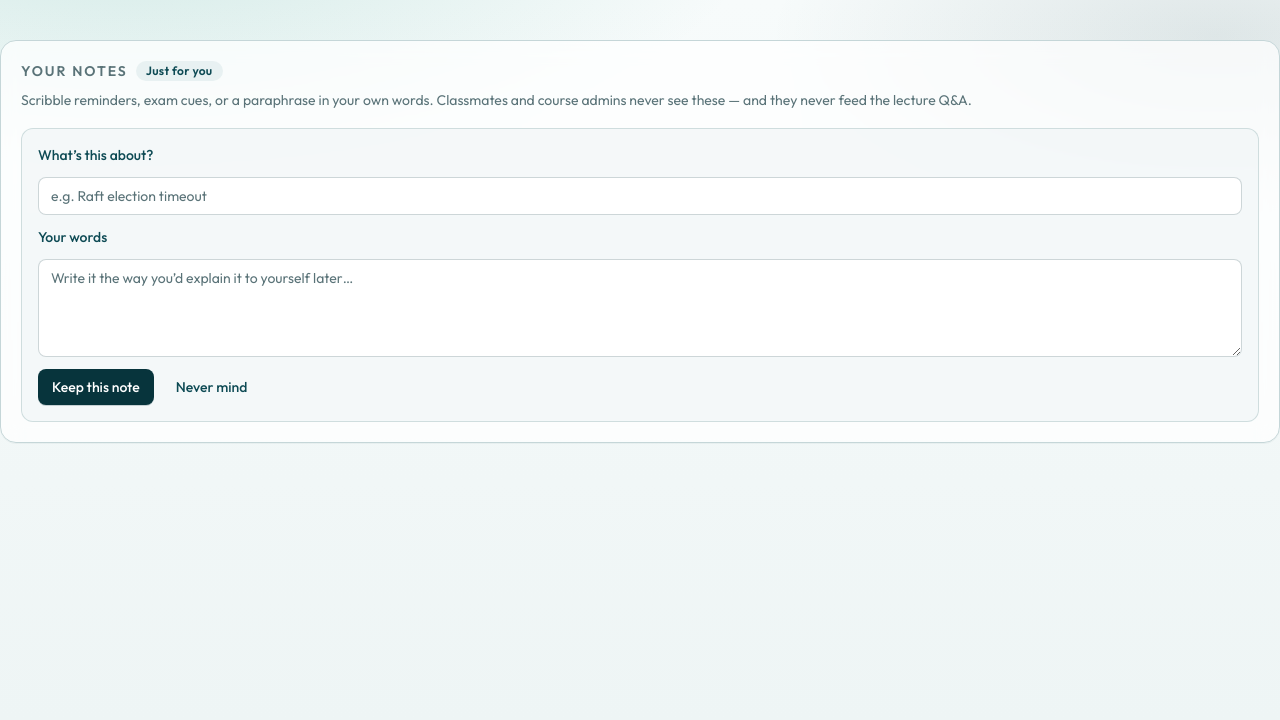
Test: CourseNotesPanel › creates, updates, and deletes a private course note
Earlier steps of the test are not shown.
Type "Raft election timeout" into the field labelled "What’s this about?" at (640, 196), box top-left (38, 177), bottom-right (1242, 215)
Type "Randomized 150–300 ms avoids split votes." into the text box labelled "Your words" at (640, 308), box top-left (38, 259), bottom-right (1242, 357)
Click the button "Keep this note" at (96, 387), box top-left (38, 369), bottom-right (154, 405)
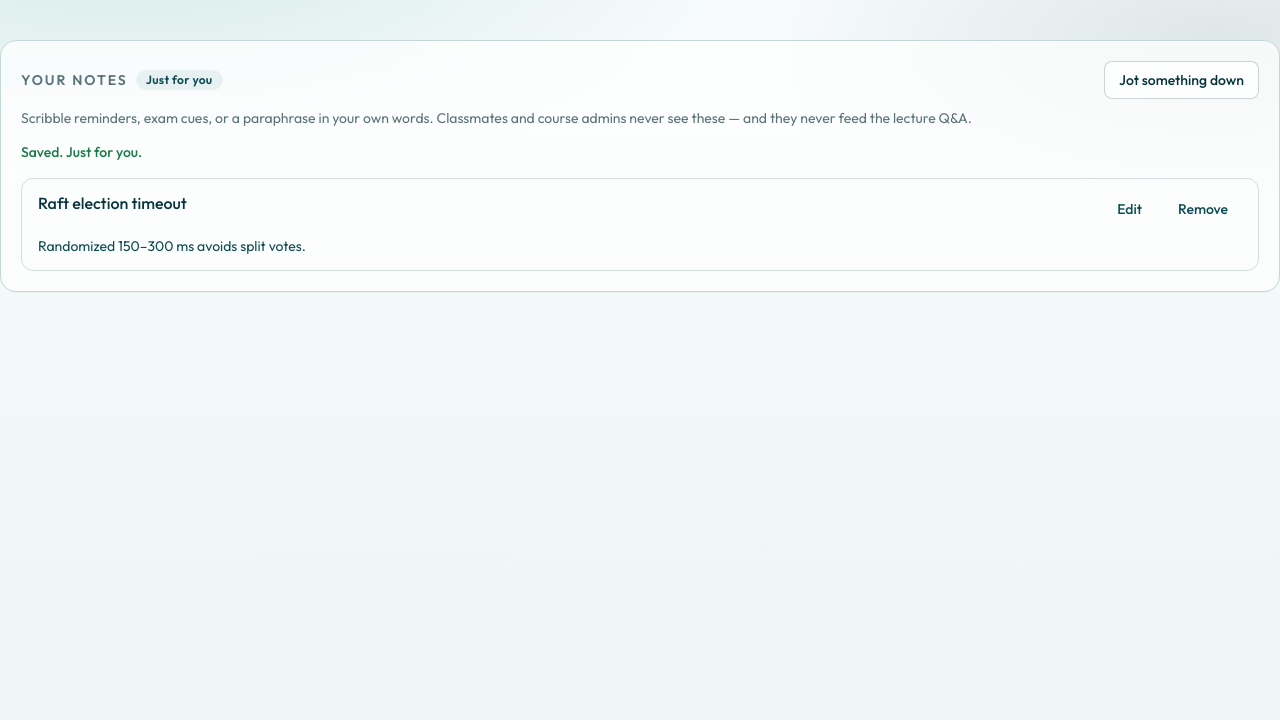
Now the text "Saved. Just for you." is shown, box top-left (21, 143), bottom-right (142, 161)
Now the text "Raft election timeout" is shown, box top-left (38, 191), bottom-right (187, 215)
Now the text "Randomized 150–300 ms avoids split votes." is shown, box top-left (38, 237), bottom-right (306, 255)
Click the button "Edit" at (1130, 209), box top-left (1103, 191), bottom-right (1156, 227)
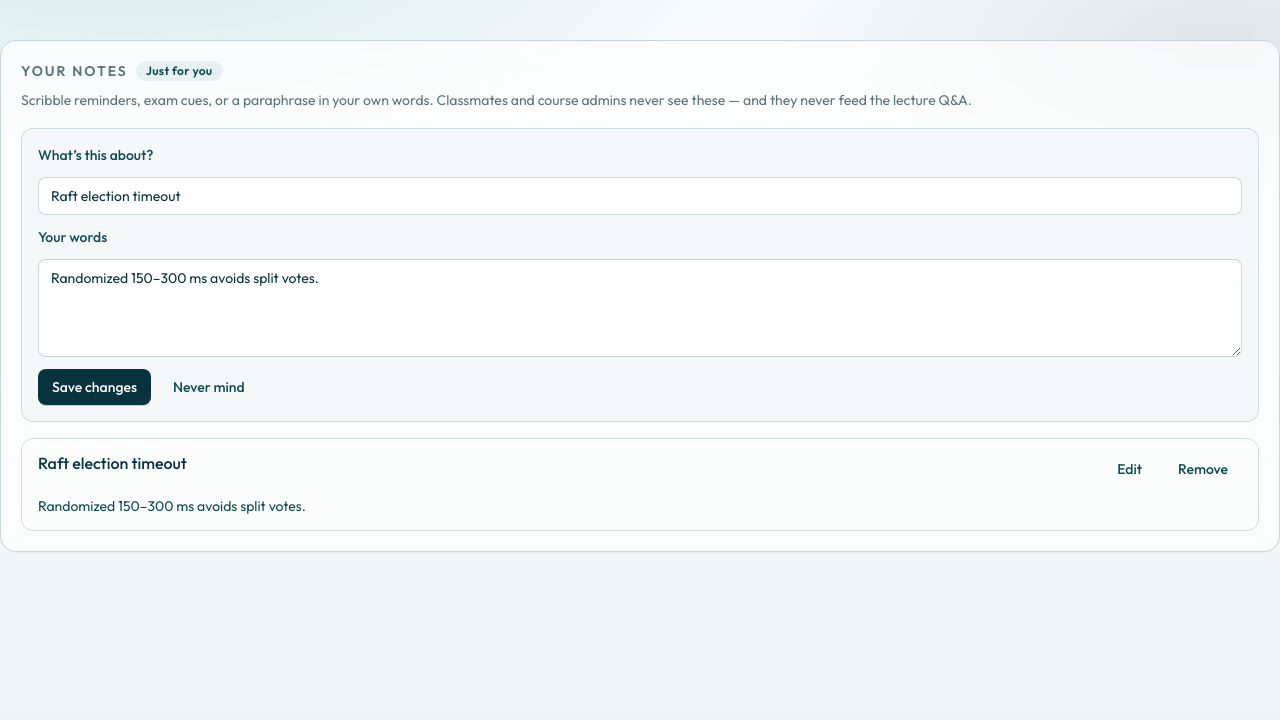
Replace the text in the field labelled "What’s this about?" with "Raft election timer" at (640, 196), box top-left (38, 177), bottom-right (1242, 215)
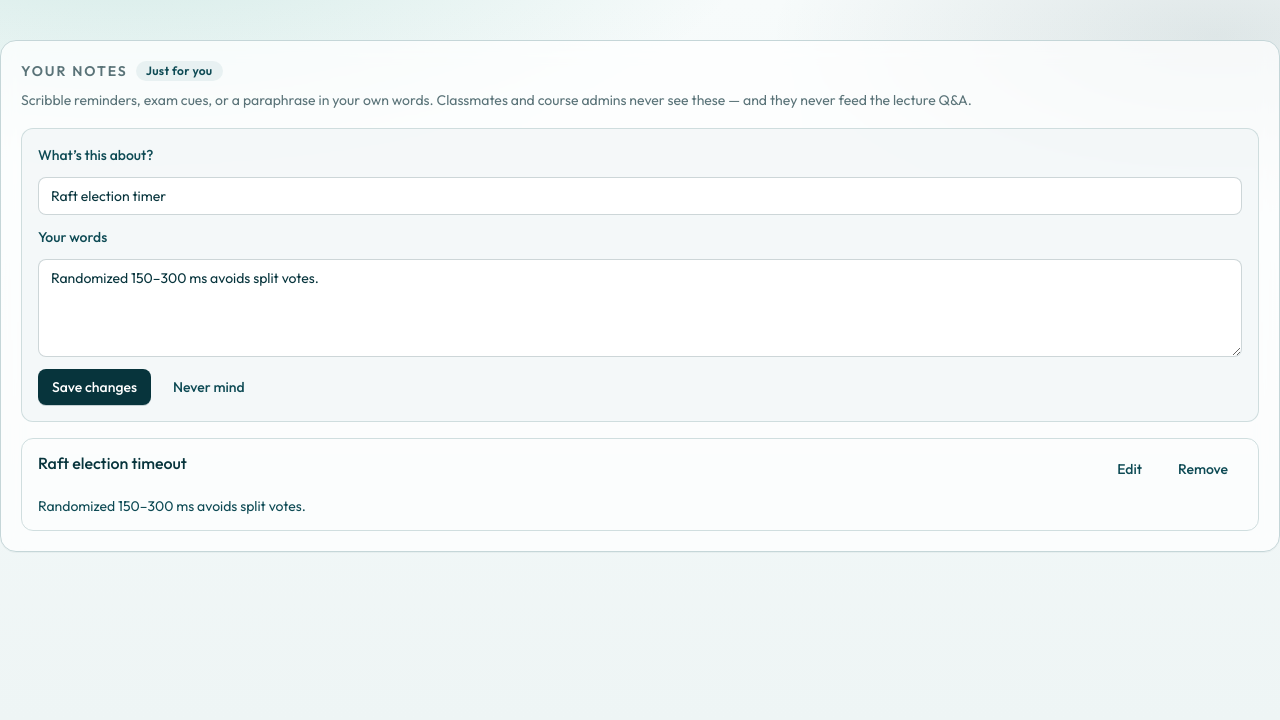
Click the button "Save changes" at (94, 387), box top-left (38, 369), bottom-right (151, 405)
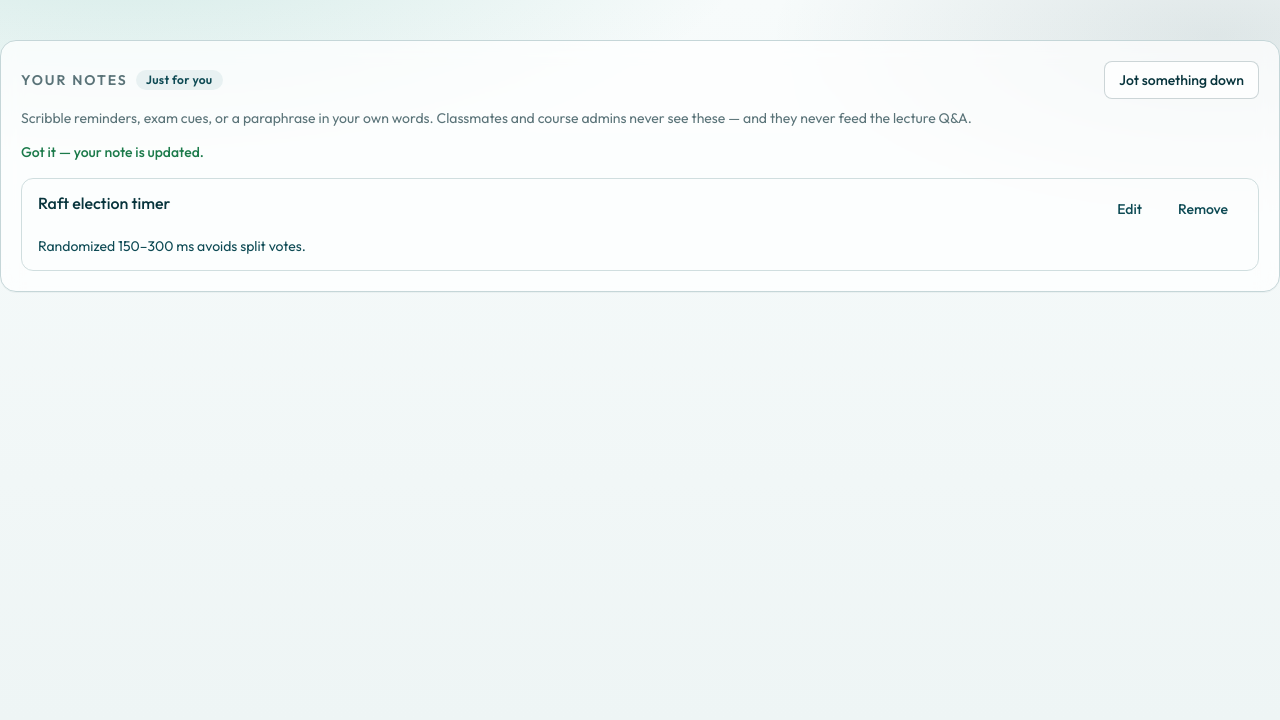
Now the text "Raft election timer" is shown, box top-left (38, 191), bottom-right (170, 215)
Click the button "Remove" at (1203, 209), box top-left (1164, 191), bottom-right (1242, 227)
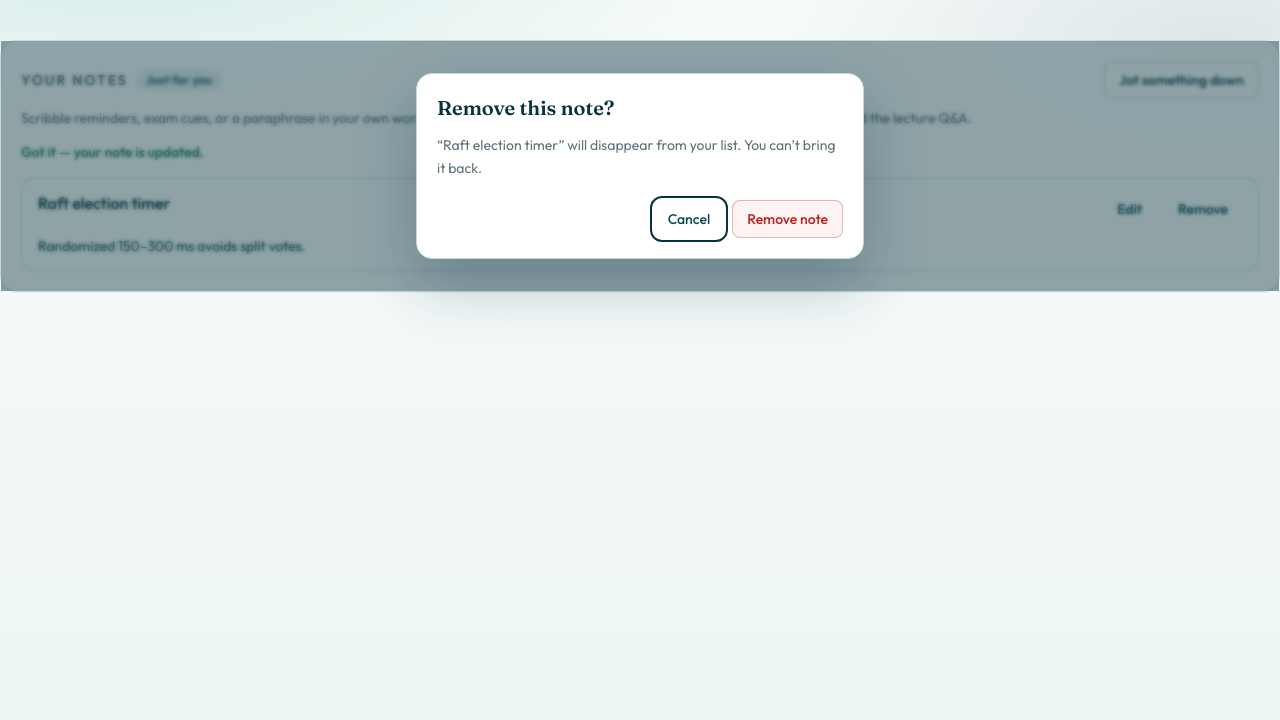
Click the button "Remove note" at (788, 218), box top-left (732, 200), bottom-right (843, 238)
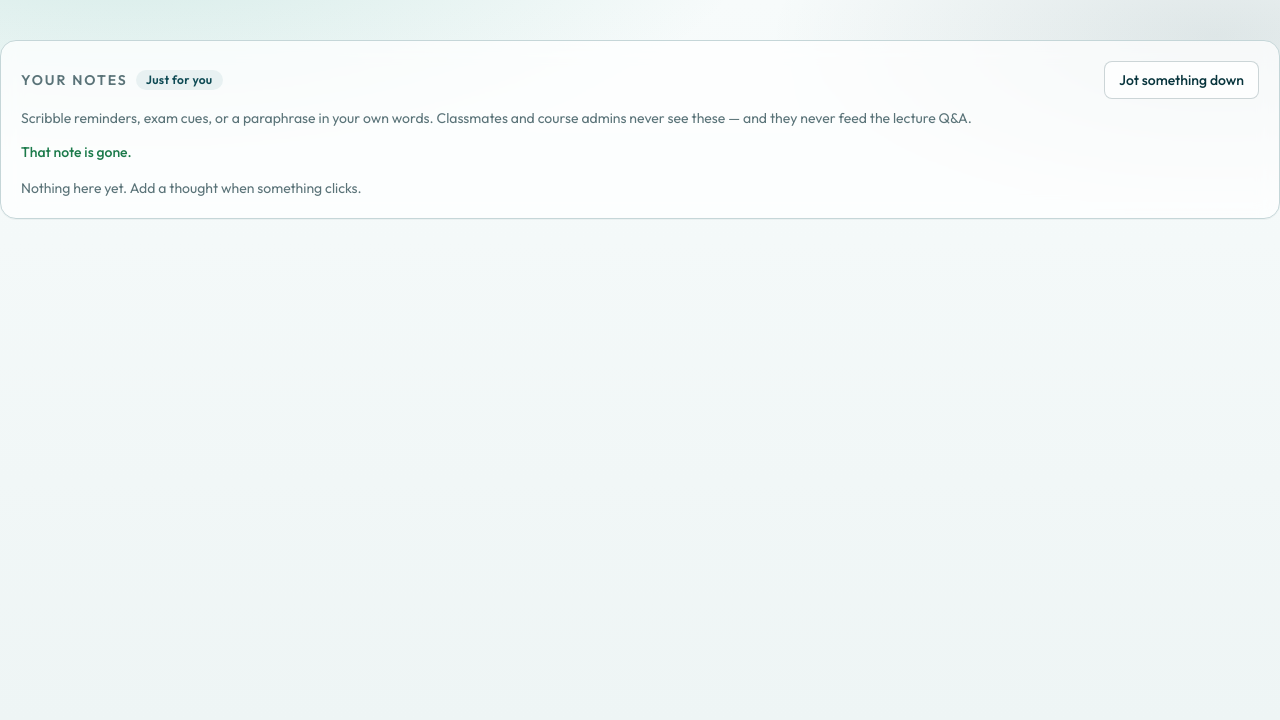
Now the text "Nothing here yet. Add a thought when something clicks." is shown, box top-left (21, 179), bottom-right (362, 197)
